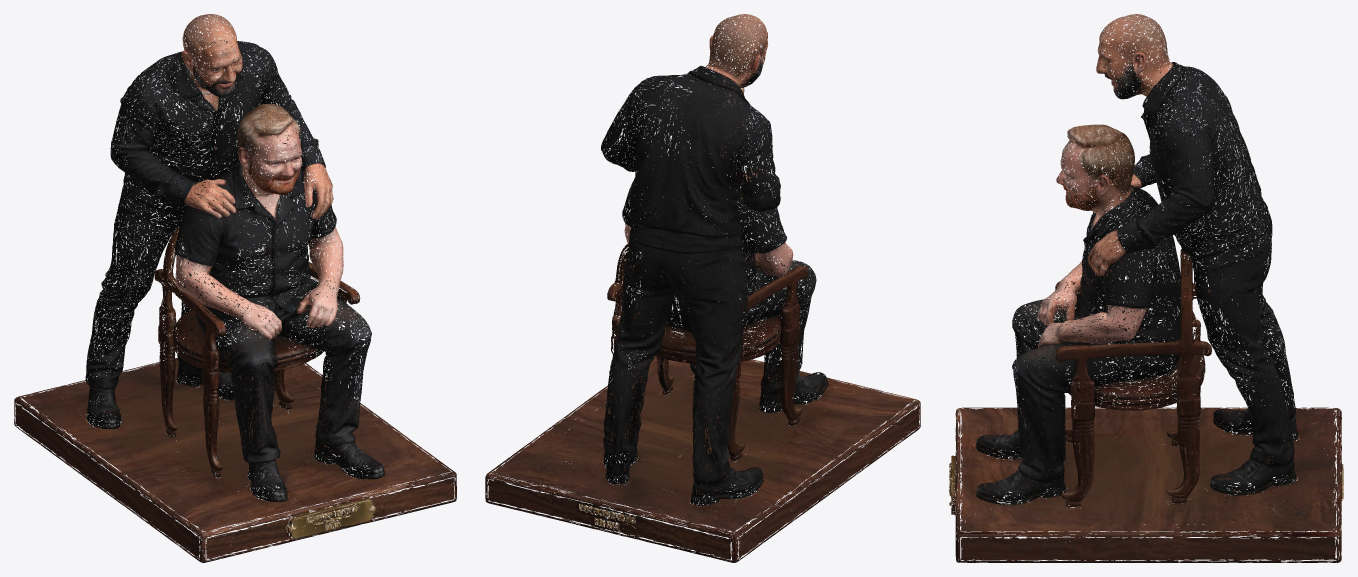
File: pair_web.glb
3 renders of one model, left to right at view 1: azimuth 30°, elevation 25°; view 2: azimuth 150°, elevation 25°; view 3: azimuth 270°, elevation 25°, orthographic. The views are drawn at different scales.
Parts seen in each view (by area): view 1: tripo_node_029436c9-488b-42fa-9fa6-650f30188b39; view 2: tripo_node_029436c9-488b-42fa-9fa6-650f30188b39; view 3: tripo_node_029436c9-488b-42fa-9fa6-650f30188b39.
Part boxes in pixels (x1,y1,x2,y2): tripo_node_029436c9-488b-42fa-9fa6-650f30188b39: (14,14,456,562); tripo_node_029436c9-488b-42fa-9fa6-650f30188b39: (485,14,920,562); tripo_node_029436c9-488b-42fa-9fa6-650f30188b39: (949,14,1343,562).
Size of the model in its own units: 0.5712 by 0.9795 by 0.7477.
Materials: 1 (1 with a texture image).
